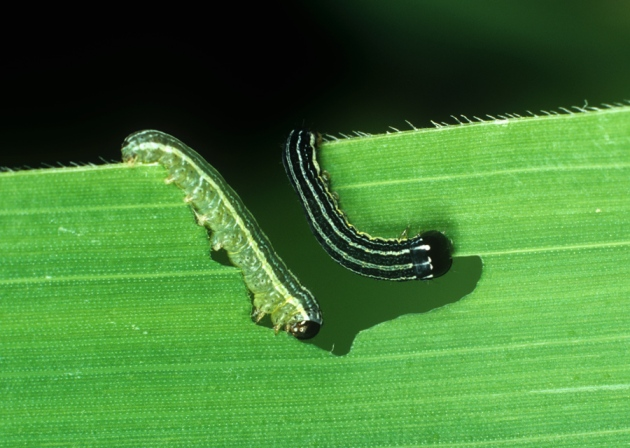Armyworm: (110, 113, 322, 342), (262, 90, 473, 287)
